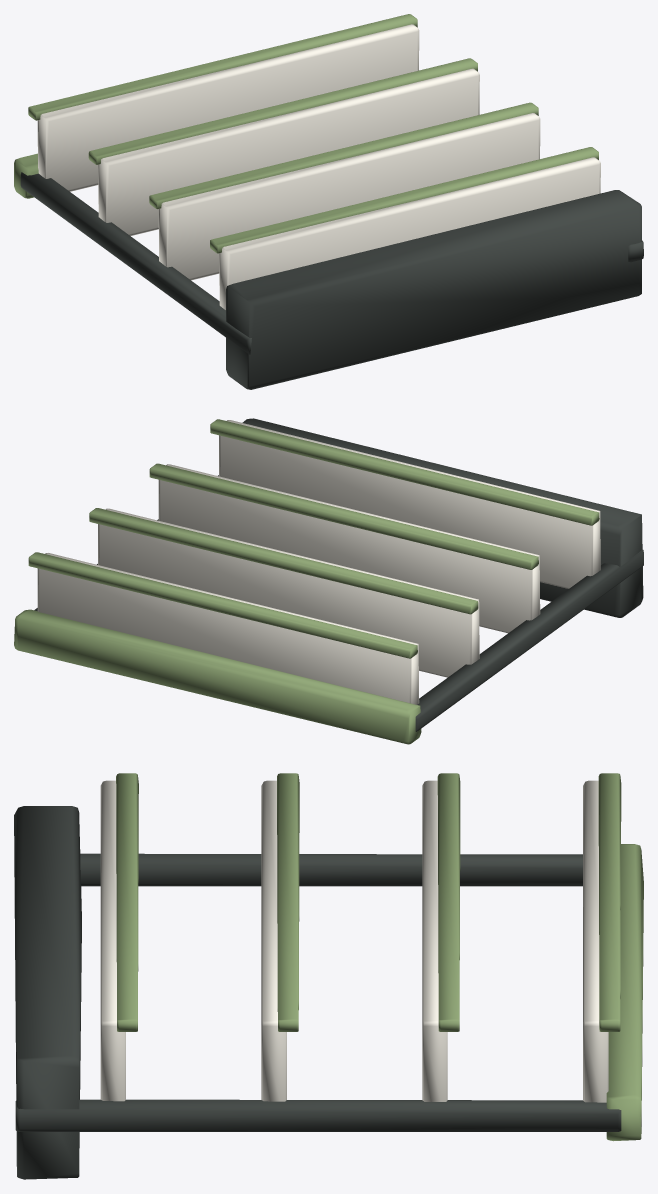
The model's file is shelf_wall_tall.glb.
3 views of the same model, one above another, from view 1: azimuth 30°, elevation 25°; view 2: azimuth 150°, elevation 25°; view 3: azimuth 270°, elevation 25° (orthographic). The views are drawn at different scales.
Parts seen in each view (by area): view 1: Base, Shelf.003, Shelf.001, Shelf.002, Shelf, Post, Trim.003, Trim.001, Trim.002, Trim, Header; view 2: Shelf.002, Shelf.001, Shelf, Shelf.003, Header, Base, Post, Trim, Trim.003, Trim.001, Trim.002; view 3: Base, Post.001, Post, Header, Shelf, Shelf.001, Shelf.002, Shelf.003, Trim, Trim.001, Trim.002, Trim.003.
Part boxes in pixels (<box>): Base: <box>226,190,641,389</box>; Shelf.003: <box>37,24,419,191</box>; Shelf.001: <box>158,113,540,280</box>; Shelf.002: <box>98,68,479,235</box>; Shelf: <box>219,157,600,309</box>; Post: <box>20,172,251,354</box>; Trim.003: <box>28,14,417,120</box>; Trim.001: <box>149,102,538,209</box>; Trim.002: <box>88,58,477,164</box>; Trim: <box>210,147,598,253</box>; Header: <box>14,153,38,198</box>; Shelf.002: <box>98,508,479,677</box>; Shelf.001: <box>158,464,540,633</box>; Shelf: <box>219,420,600,588</box>; Shelf.003: <box>37,553,419,704</box>; Header: <box>14,609,421,744</box>; Base: <box>242,418,643,617</box>; Post: <box>415,549,643,731</box>; Trim: <box>210,419,599,525</box>; Trim.003: <box>28,552,417,658</box>; Trim.001: <box>149,463,538,569</box>; Trim.002: <box>89,508,478,614</box>; Base: <box>14,806,81,1179</box>; Post.001: <box>15,1099,621,1131</box>; Post: <box>80,853,582,886</box>; Header: <box>606,844,643,1141</box>; Shelf: <box>100,780,125,1101</box>; Shelf.001: <box>261,780,286,1101</box>; Shelf.002: <box>422,780,447,1101</box>; Shelf.003: <box>583,780,608,1102</box>; Trim: <box>116,773,138,1031</box>; Trim.001: <box>277,773,299,1031</box>; Trim.002: <box>437,773,460,1031</box>; Trim.003: <box>598,773,621,1031</box>.
Bounding box in the file's own units: 2.15 × 0.6149 × 2.22.
